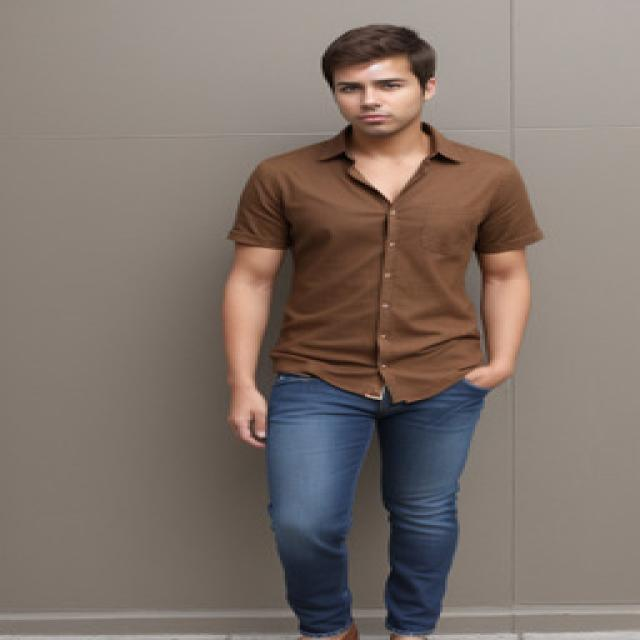Ai human 2: (200, 18, 550, 640)
